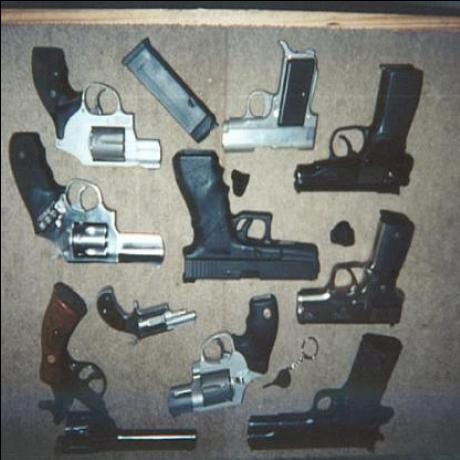weapon: (33, 282, 198, 460), (7, 128, 162, 278), (166, 148, 322, 294), (242, 341, 420, 460), (288, 63, 430, 202), (26, 43, 162, 172), (293, 205, 420, 330), (168, 292, 282, 416), (217, 38, 324, 154), (93, 284, 199, 344)
